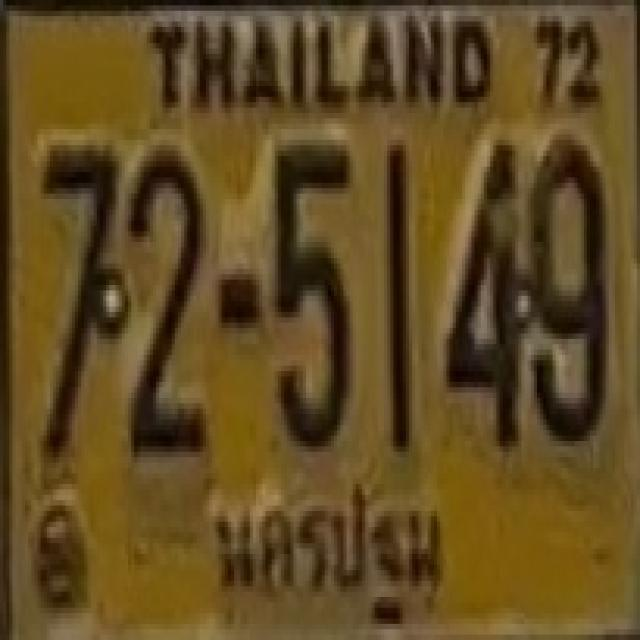1: (382, 143, 408, 449)
2: (126, 145, 202, 452)
4: (442, 137, 516, 444)
5: (272, 140, 346, 446)
7: (38, 140, 116, 457)
9: (524, 137, 602, 438)
NPT: (206, 482, 446, 632)
